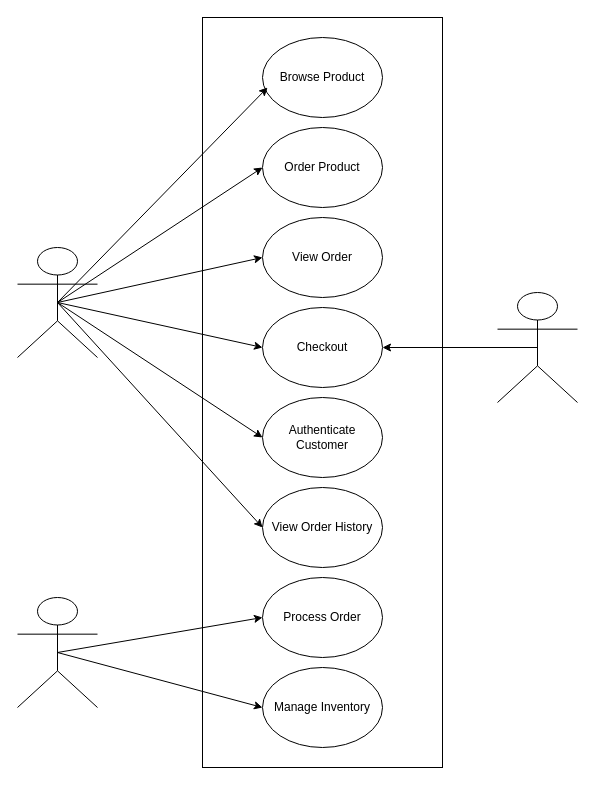
This 595x785 diagram has some shape labels left out. The box of each missing label's shape, as (x1, y1, x2, y2) in pixels:
Consumer: (16, 246, 98, 358)
Employee: (16, 596, 98, 708)
PayPal: (496, 292, 578, 402)
